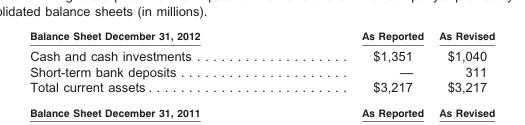table: (29, 29, 494, 93)
table column: (29, 29, 280, 93), (280, 29, 430, 93), (430, 29, 494, 93)
table column header: (29, 29, 494, 45)
table row: (29, 45, 494, 63), (29, 29, 494, 45), (29, 63, 494, 78), (29, 78, 494, 93)
